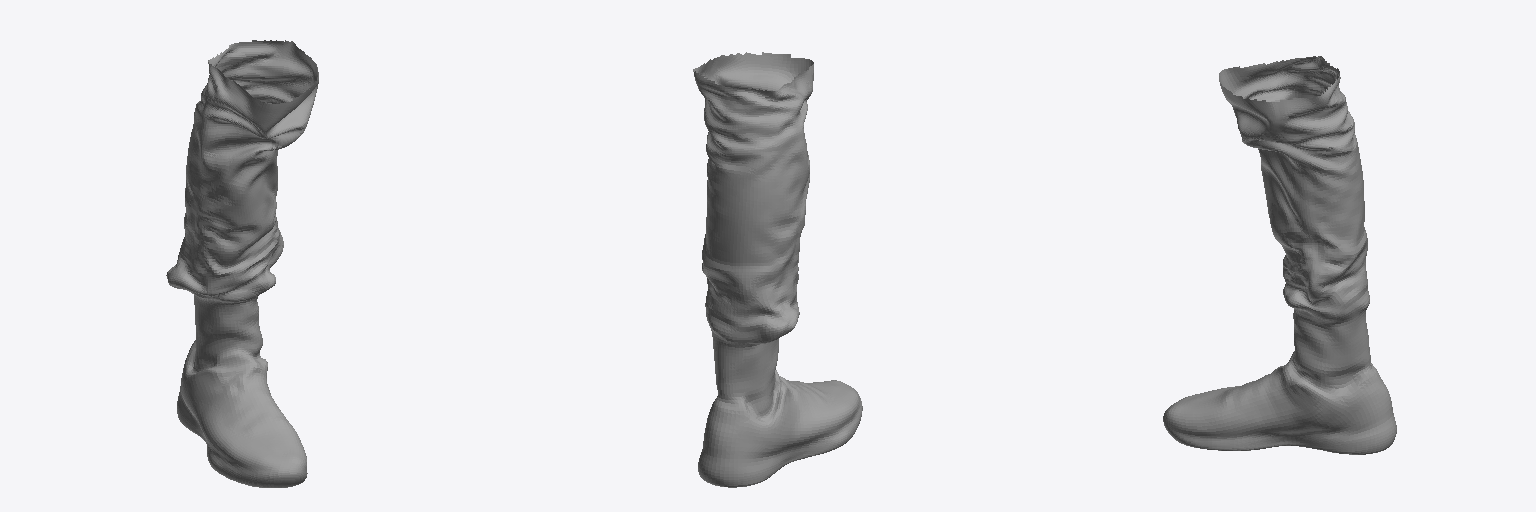
File: pieder.obj
3 renders of one model, left to right at view 1: azimuth 30°, elevation 25°; view 2: azimuth 150°, elevation 25°; view 3: azimuth 270°, elevation 25°, orthographic.
Parts seen in each view (by area): view 1: RUST_3d_Low.000_RUST_3d_Low.002; view 2: RUST_3d_Low.000_RUST_3d_Low.002; view 3: RUST_3d_Low.000_RUST_3d_Low.002.
Boxes of the visible parts, x1,y1,x2,y2 form: RUST_3d_Low.000_RUST_3d_Low.002: [166, 40, 318, 487]; RUST_3d_Low.000_RUST_3d_Low.002: [693, 52, 862, 487]; RUST_3d_Low.000_RUST_3d_Low.002: [1163, 56, 1396, 454].
Size of the model in its own units: 16.38 by 49.56 by 27.76.